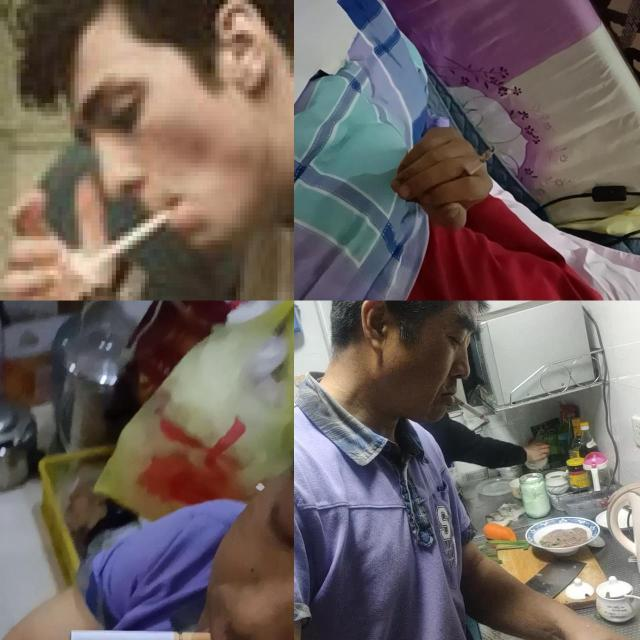smoking: (74, 197, 190, 275), (456, 146, 497, 182), (72, 630, 216, 640), (452, 395, 489, 422)
